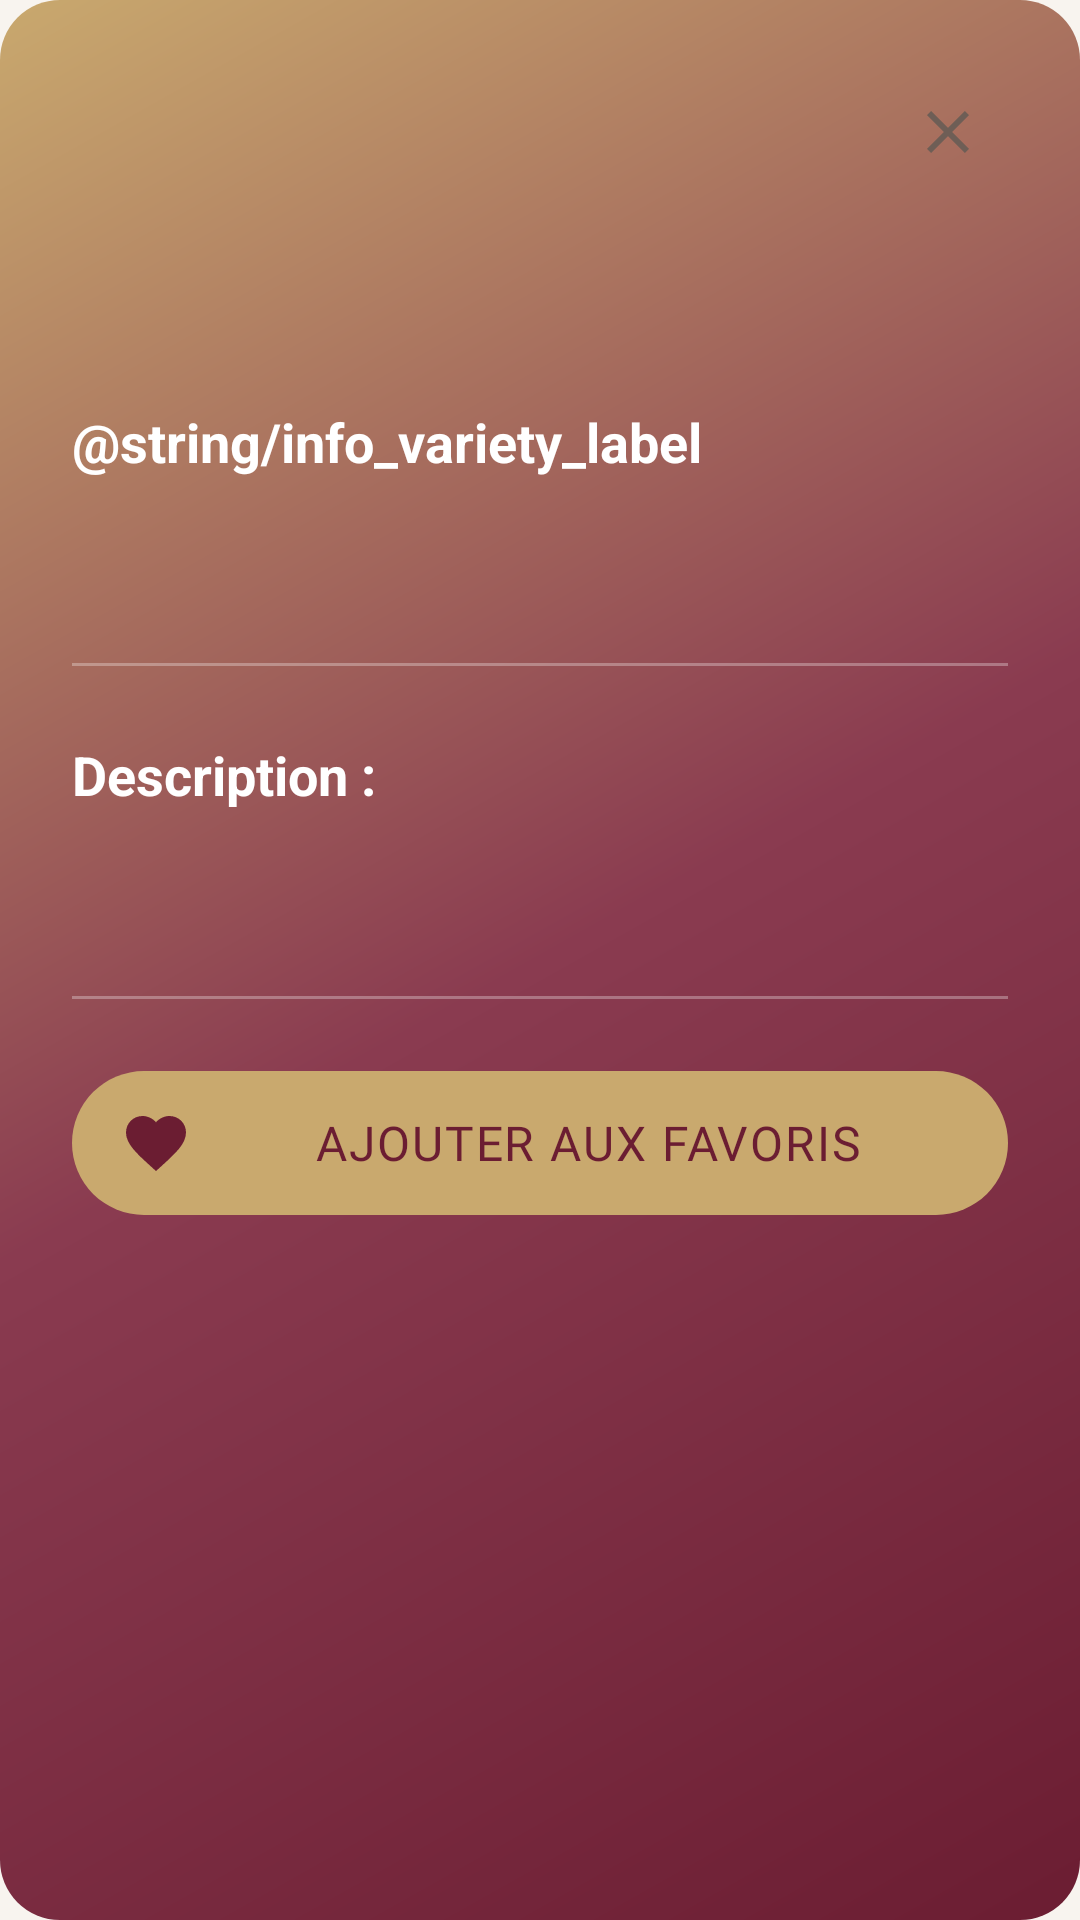

Icons on this 1080×1920 Android screen, each with its box as (x1, y1, x2, y2):
Close: (927, 111, 969, 153)
